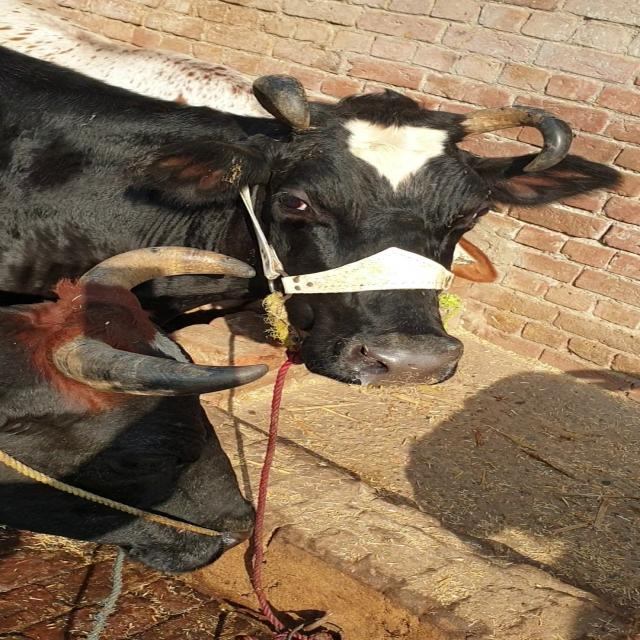cowFace: (9, 276, 289, 600), (244, 76, 518, 381)
